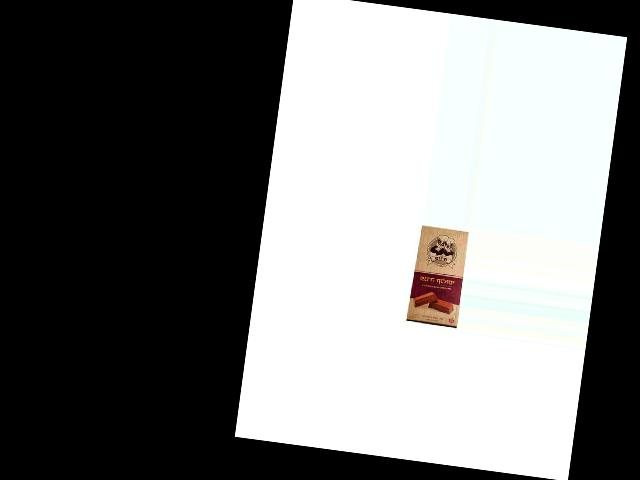chocolate: (404, 224, 468, 327)
